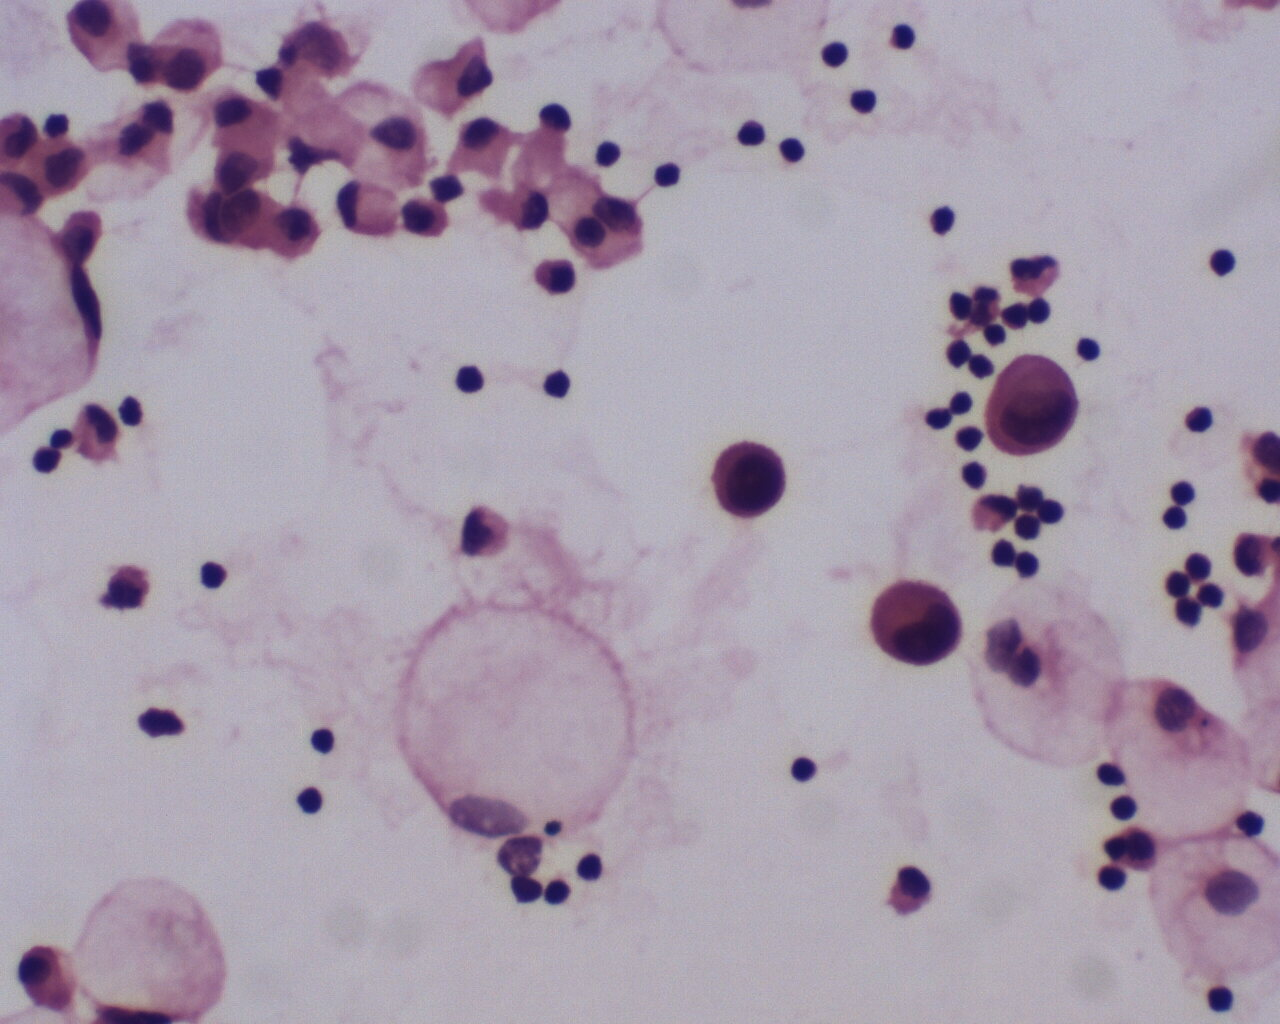ab: (978, 349, 1087, 465), (864, 566, 970, 676), (707, 437, 794, 527)
histo: (385, 594, 643, 850), (1098, 670, 1252, 850)
lymph: (449, 356, 491, 401), (1203, 239, 1243, 285), (1176, 402, 1218, 444), (302, 720, 344, 761), (778, 752, 822, 791), (1197, 979, 1241, 1018), (816, 36, 856, 74), (1156, 499, 1193, 539), (293, 784, 330, 822), (196, 555, 230, 595), (734, 111, 765, 153)
meso: (147, 14, 230, 96)
